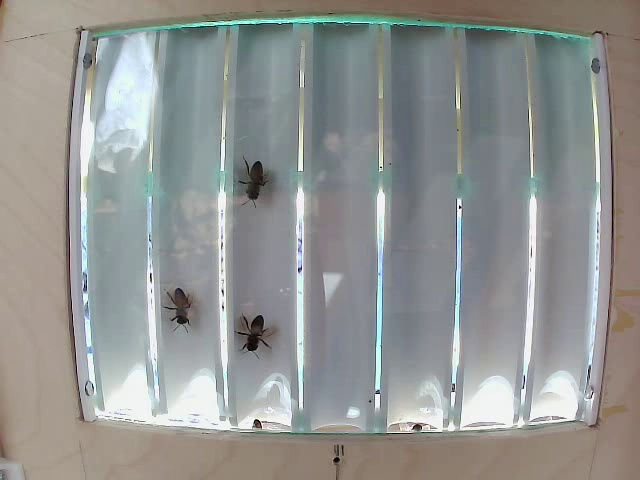bee: (230, 142, 287, 208), (154, 265, 197, 337), (234, 300, 279, 365)
